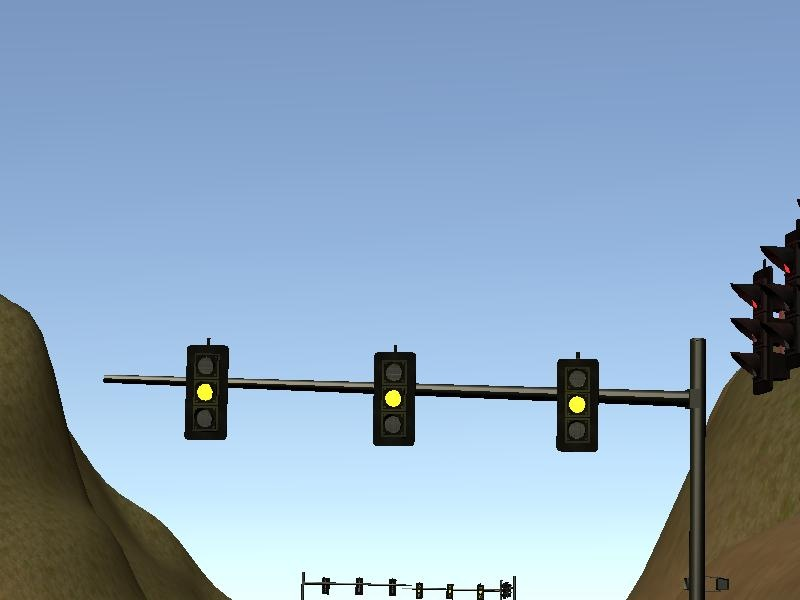YELLOW: (555, 350, 601, 452), (369, 344, 415, 446), (184, 340, 230, 442)
